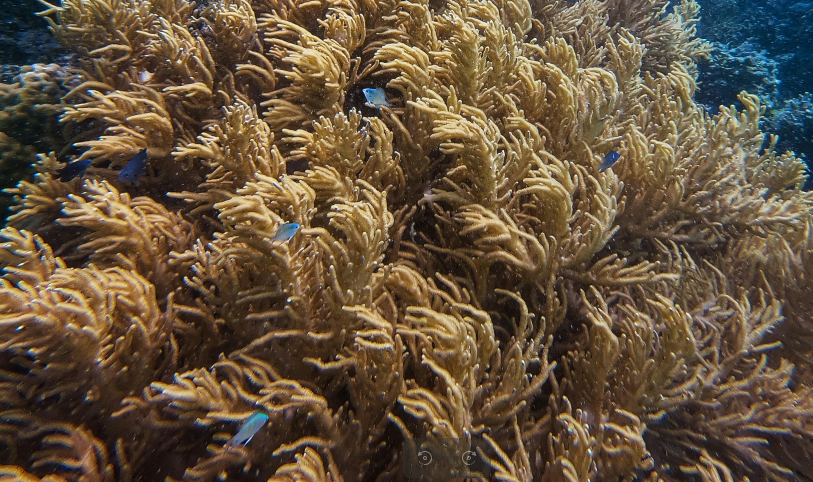fishSmall: (221, 410, 270, 456), (117, 147, 150, 186), (48, 157, 96, 183), (265, 221, 299, 247), (362, 86, 396, 111), (594, 150, 620, 175)
